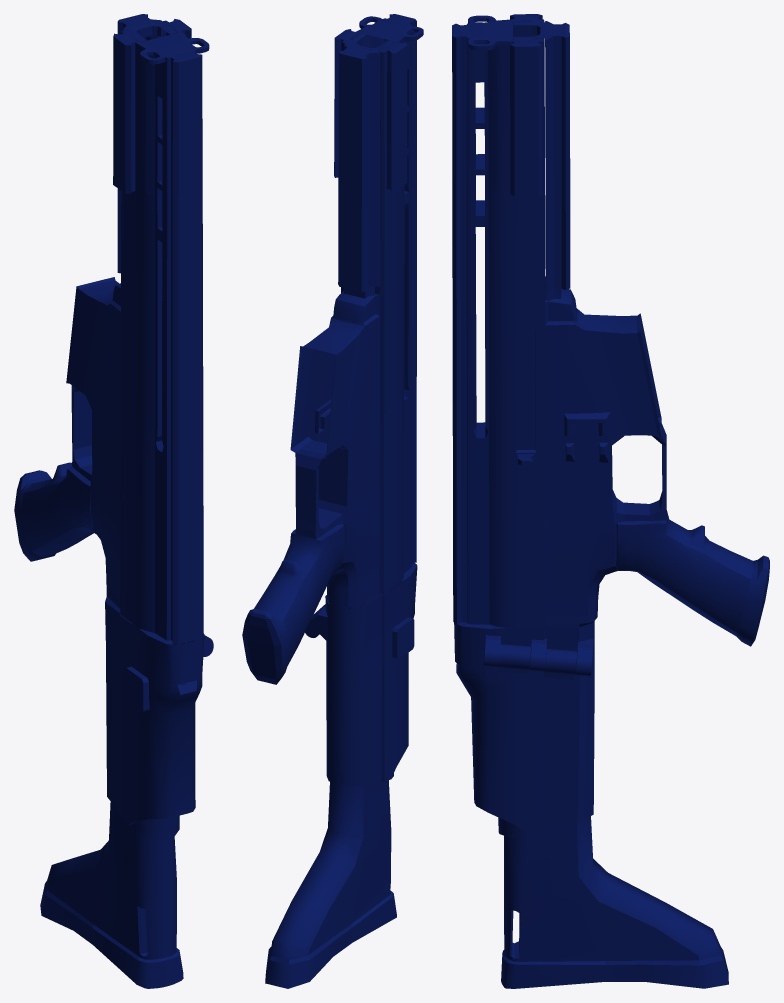
3 views of the same model, side by side, from view 1: azimuth 30°, elevation 25°; view 2: azimuth 150°, elevation 25°; view 3: azimuth 270°, elevation 25° (orthographic). The views are drawn at different scales.
Parts seen in each view (by area): view 1: RetopoGroup1; view 2: RetopoGroup1; view 3: RetopoGroup1.
Part boxes in pixels (<box>): RetopoGroup1: <box>14,14,213,988</box>; RetopoGroup1: <box>242,14,423,988</box>; RetopoGroup1: <box>452,14,769,988</box>.
Size of the model in its own units: 1.54 by 18.82 by 5.71.
